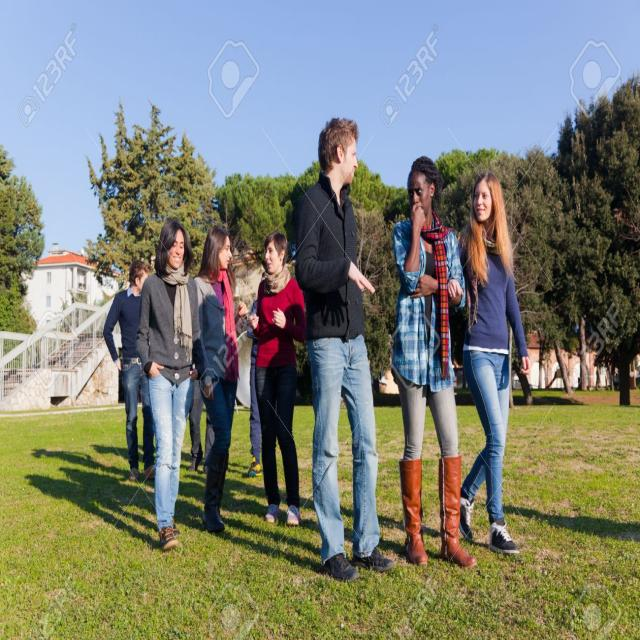body: (286, 114, 398, 584), (388, 152, 480, 570), (444, 168, 532, 558), (133, 216, 208, 554), (245, 227, 309, 528), (187, 222, 248, 536), (102, 257, 156, 483), (246, 270, 271, 479), (184, 376, 206, 475)
